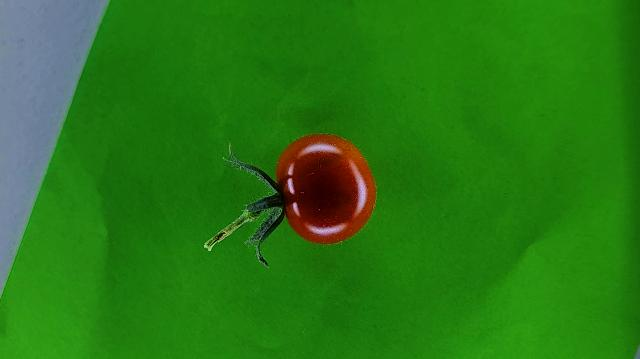Fully Grown: (275, 133, 379, 245)
